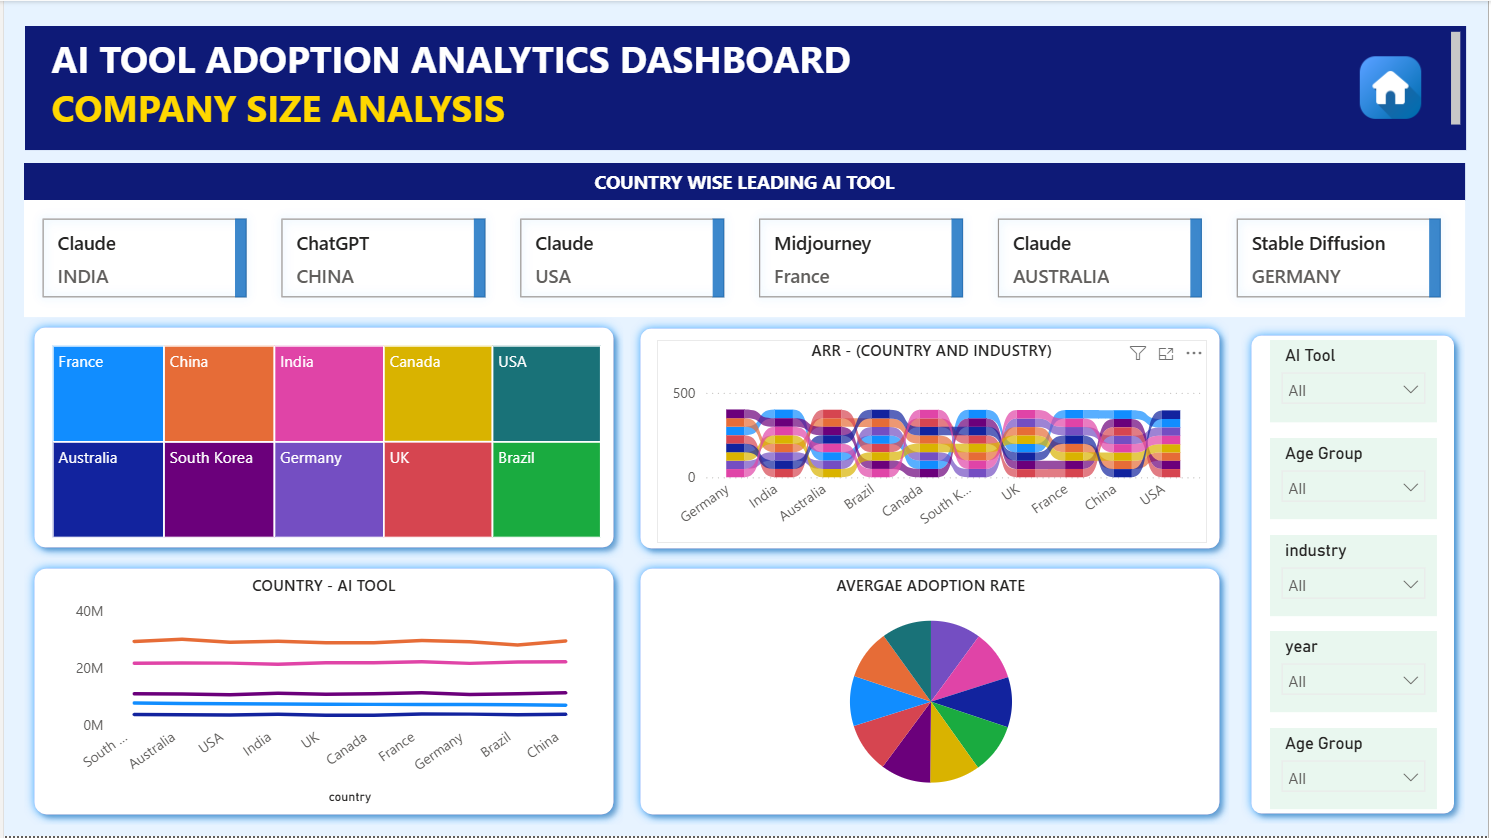

What the dashboard file says about the page in this screenshot:
{"tool":"powerbi","page":{"name":"COUNTRY WISE DASHBOARD","canvas":[1280,720],"ordinal":5},"visuals":[{"type":"textbox","box":[17.8,22,1243.2,107],"z":0},{"type":"textbox","box":[17.4,139.3,1242.7,32.3],"z":1000},{"type":"cardVisual","fields":{"Data":["Country wise analysis.INDIA","Country wise analysis.CHINA","Country wise analysis.USA","Country wise analysis.France","Country wise analysis.AUSTRALIA","Country wise analysis.GERMANY"]},"box":[17.4,171.7,1242.7,100.8],"z":2000},{"type":"shape","box":[17.4,272.4,517.5,207.7],"z":3000},{"type":"shape","box":[17.4,480.2,517.5,230.1],"z":4000},{"type":"shape","box":[539.9,273.7,517.5,207.7],"z":5000},{"type":"shape","box":[539.9,480.2,517.5,230.1],"z":6000},{"type":"shape","box":[1067.3,279.9,192.8,430.4],"z":7000},{"type":"treemap","fields":{"Group":["AI.country"],"Values":["Sum(AI.daily_active_users)"]},"box":[37.3,292.3,482.7,175.4],"z":8000},{"type":"lineChart","title":"COUNTRY - AI TOOL","fields":{"Category":["AI.country"],"Y":["Country wise analysis.Bard_1(DAU)","Country wise analysis.Claude_1(DAU)","Country wise analysis.CHATGPT(DAU)","Country wise analysis.s_d(DAU)","Country wise analysis.midjourney_1(DAU)"]},"box":[46,495.1,460.3,201.5],"z":9000},{"type":"ribbonChart","title":"ARR - (COUNTRY AND INDUSTRY)","fields":{"Category":["AI.country"],"Y":["Avg(AI.adoption_rate)"],"Series":["AI.industry"]},"box":[563.5,292.3,473.9,175.4],"z":10000},{"type":"pieChart","title":"AVERGAE ADOPTION RATE","fields":{"Category":["AI.country"],"Y":["Avg(AI.adoption_rate)"]},"box":[567.2,495.1,464,201.5],"z":11000},{"type":"slicer","fields":{"Values":["AI.ai_tool"]},"box":[1092.2,292.3,144.3,70.9],"z":12000},{"type":"slicer","fields":{"Values":["AI.age_group"]},"box":[1092.2,376.9,144.3,69.7],"z":13000},{"type":"slicer","fields":{"Values":["AI.industry"]},"box":[1092.2,460.3,144.3,69.7],"z":14000},{"type":"slicer","fields":{"Values":["AI.year"]},"box":[1092.2,543.6,144.3,69.7],"z":15000},{"type":"slicer","fields":{"Values":["AI.age_group"]},"box":[1092.2,627,144.3,69.7],"z":16000},{"type":"image","box":[1164.3,39.8,63.4,69.7],"z":16001}]}

Visuals, with their boxes in screenshot pixels (x1, y1, x2, y2), scaled from the page's 1280x720 canvas onto the 1491x838 screenshot:
textbox: 21/26/1469/150
textbox: 20/162/1468/200
cardVisual - Country wise analysis.INDIA x Country wise analysis.CHINA: 20/200/1468/317
shape: 20/317/623/559
shape: 20/559/623/827
shape: 629/319/1232/560
shape: 629/559/1232/827
shape: 1243/326/1468/827
treemap - AI.country x Sum(AI.daily_active_users): 43/340/606/544
"COUNTRY - AI TOOL" lineChart: 54/576/590/811
"ARR - (COUNTRY AND INDUSTRY)" ribbonChart: 656/340/1208/544
"AVERGAE ADOPTION RATE" pieChart: 661/576/1201/811
slicer - AI.ai_tool: 1272/340/1440/423
slicer - AI.age_group: 1272/439/1440/520
slicer - AI.industry: 1272/536/1440/617
slicer - AI.year: 1272/633/1440/714
slicer - AI.age_group: 1272/730/1440/811
image: 1356/46/1430/127
